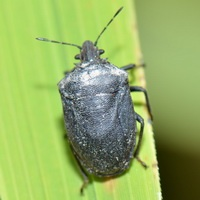insect: (36, 7, 151, 193)
